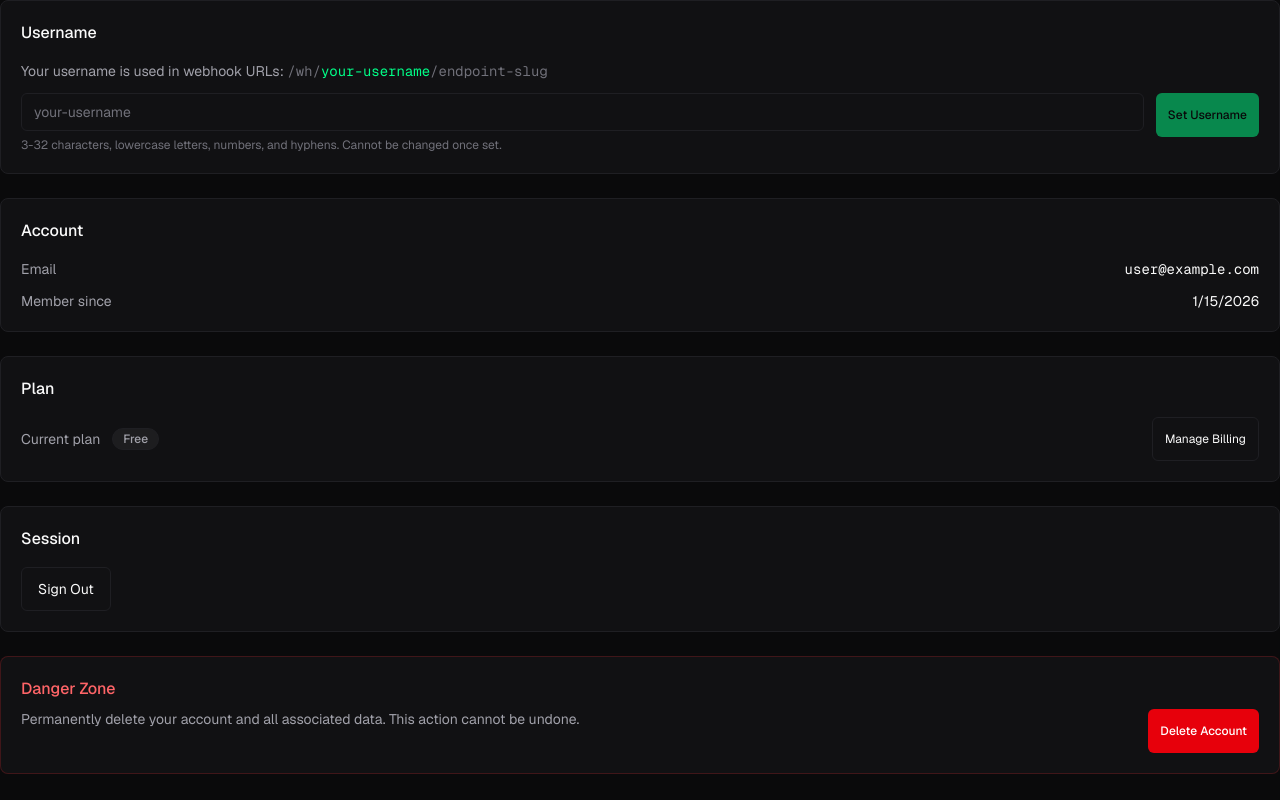
Test case: SettingsClient › account deletion › shows confirmation section when delete account is clicked
Click the button "Delete Account" at (1204, 731), box x1=1148 y1=709 x2=1259 y2=753
(page scrolled)
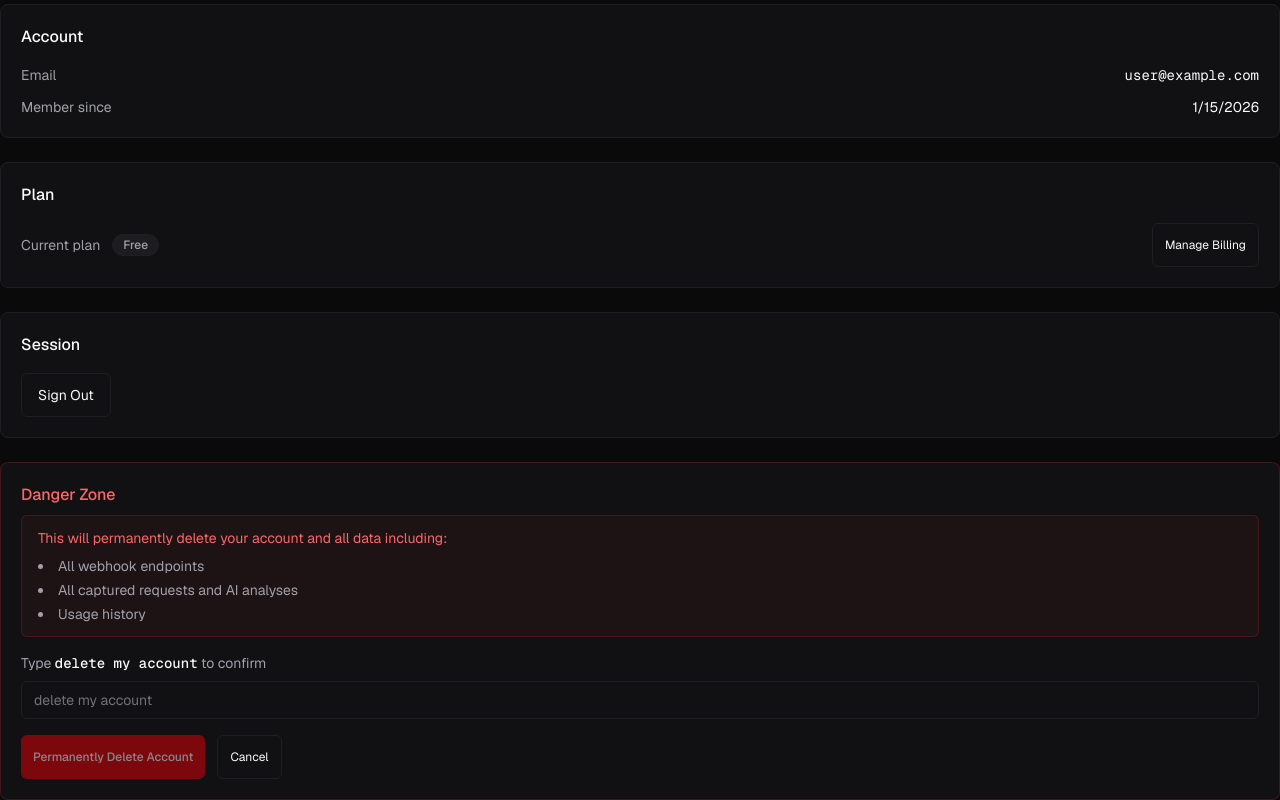
Expected: the field with placeholder "delete my account" is shown, x1=21 y1=681 x2=1259 y2=719
Expected: the button "Permanently Delete Account" is shown, x1=21 y1=735 x2=205 y2=779
Expected: the button "Cancel" is shown, x1=217 y1=735 x2=282 y2=779
